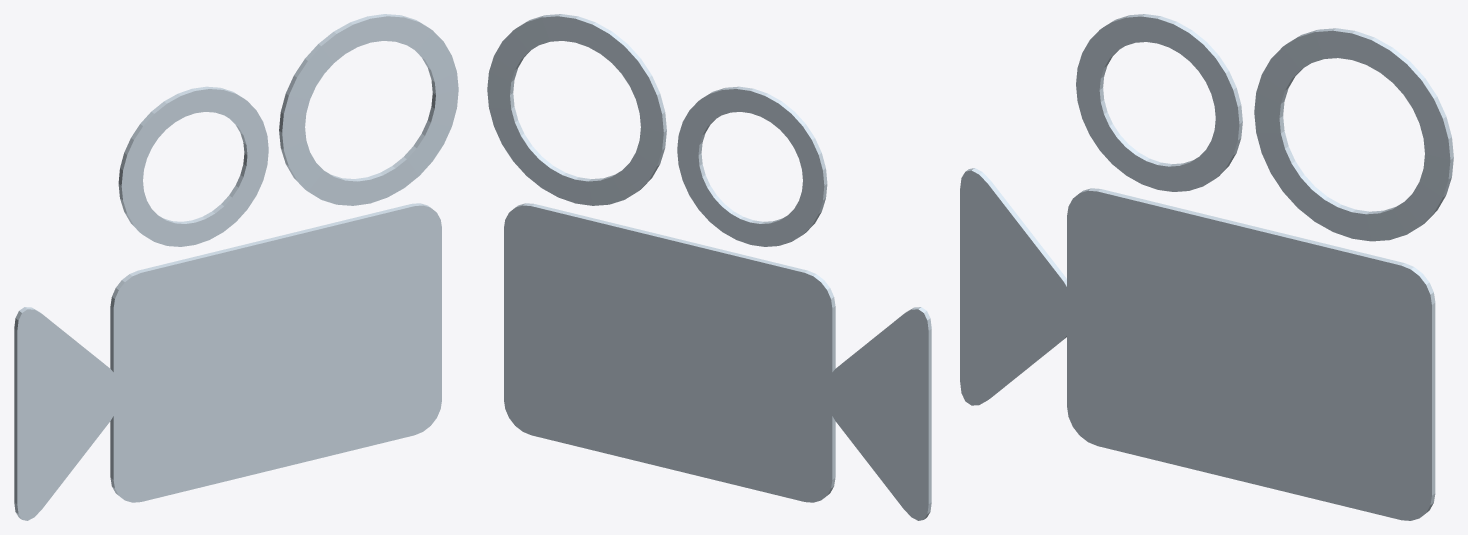
Rendered from Recorder_3D_Icon_04.fbx.
The picture shows the model from 3 angles, left to right: view 1: azimuth 30°, elevation 25°; view 2: azimuth 150°, elevation 25°; view 3: azimuth 330°, elevation 25°; orthographic projection. The views are drawn at different scales.
Visible parts, largest first — view 1: Recorder_3D_Icon_04; view 2: Recorder_3D_Icon_04; view 3: Recorder_3D_Icon_04.
Part boxes in pixels (<box>): Recorder_3D_Icon_04: <box>14,14,458,520</box>; Recorder_3D_Icon_04: <box>487,14,931,520</box>; Recorder_3D_Icon_04: <box>960,14,1453,520</box>.
Size of the model in its own units: 163 by 151 by 2.13.
